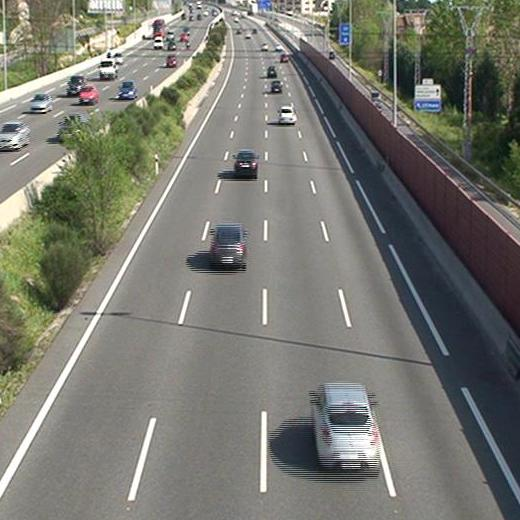car: (312, 385, 379, 469), (211, 226, 246, 269), (234, 152, 259, 177), (279, 108, 296, 125), (271, 80, 282, 92), (267, 66, 277, 77), (279, 53, 288, 63)
